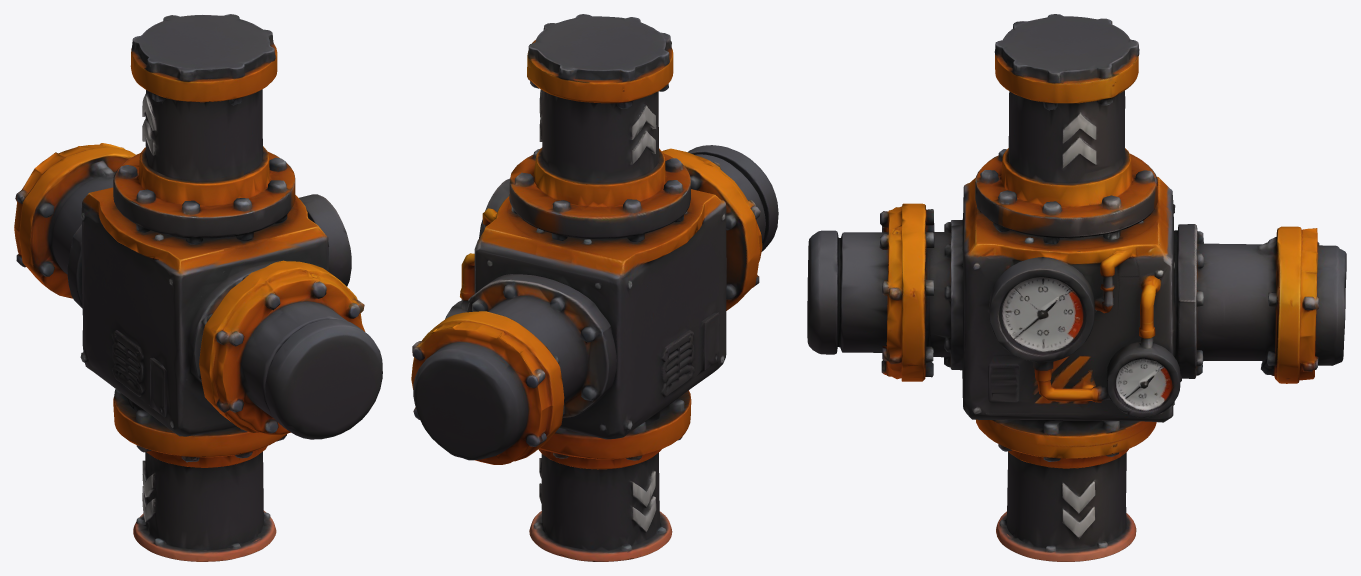
The model's file is IndustrialPropKitPart1.glb.
The picture shows the model from 3 angles, left to right: view 1: azimuth 30°, elevation 25°; view 2: azimuth 150°, elevation 25°; view 3: azimuth 270°, elevation 25°; orthographic projection.
Parts seen in each view (by area): view 1: Mesh::generatedModels/lD2zUAmkJDwD3pRtByOe.gltf; view 2: Mesh::generatedModels/lD2zUAmkJDwD3pRtByOe.gltf; view 3: Mesh::generatedModels/lD2zUAmkJDwD3pRtByOe.gltf.
Part boxes in pixels (x1,y1,x2,y2): Mesh::generatedModels/lD2zUAmkJDwD3pRtByOe.gltf: (14, 14, 382, 561); Mesh::generatedModels/lD2zUAmkJDwD3pRtByOe.gltf: (411, 14, 778, 561); Mesh::generatedModels/lD2zUAmkJDwD3pRtByOe.gltf: (807, 14, 1346, 561).
Bounding box in the file's own units: 0.4181 × 0.9999 × 1.
Materials: 1 (1 with a texture image).
